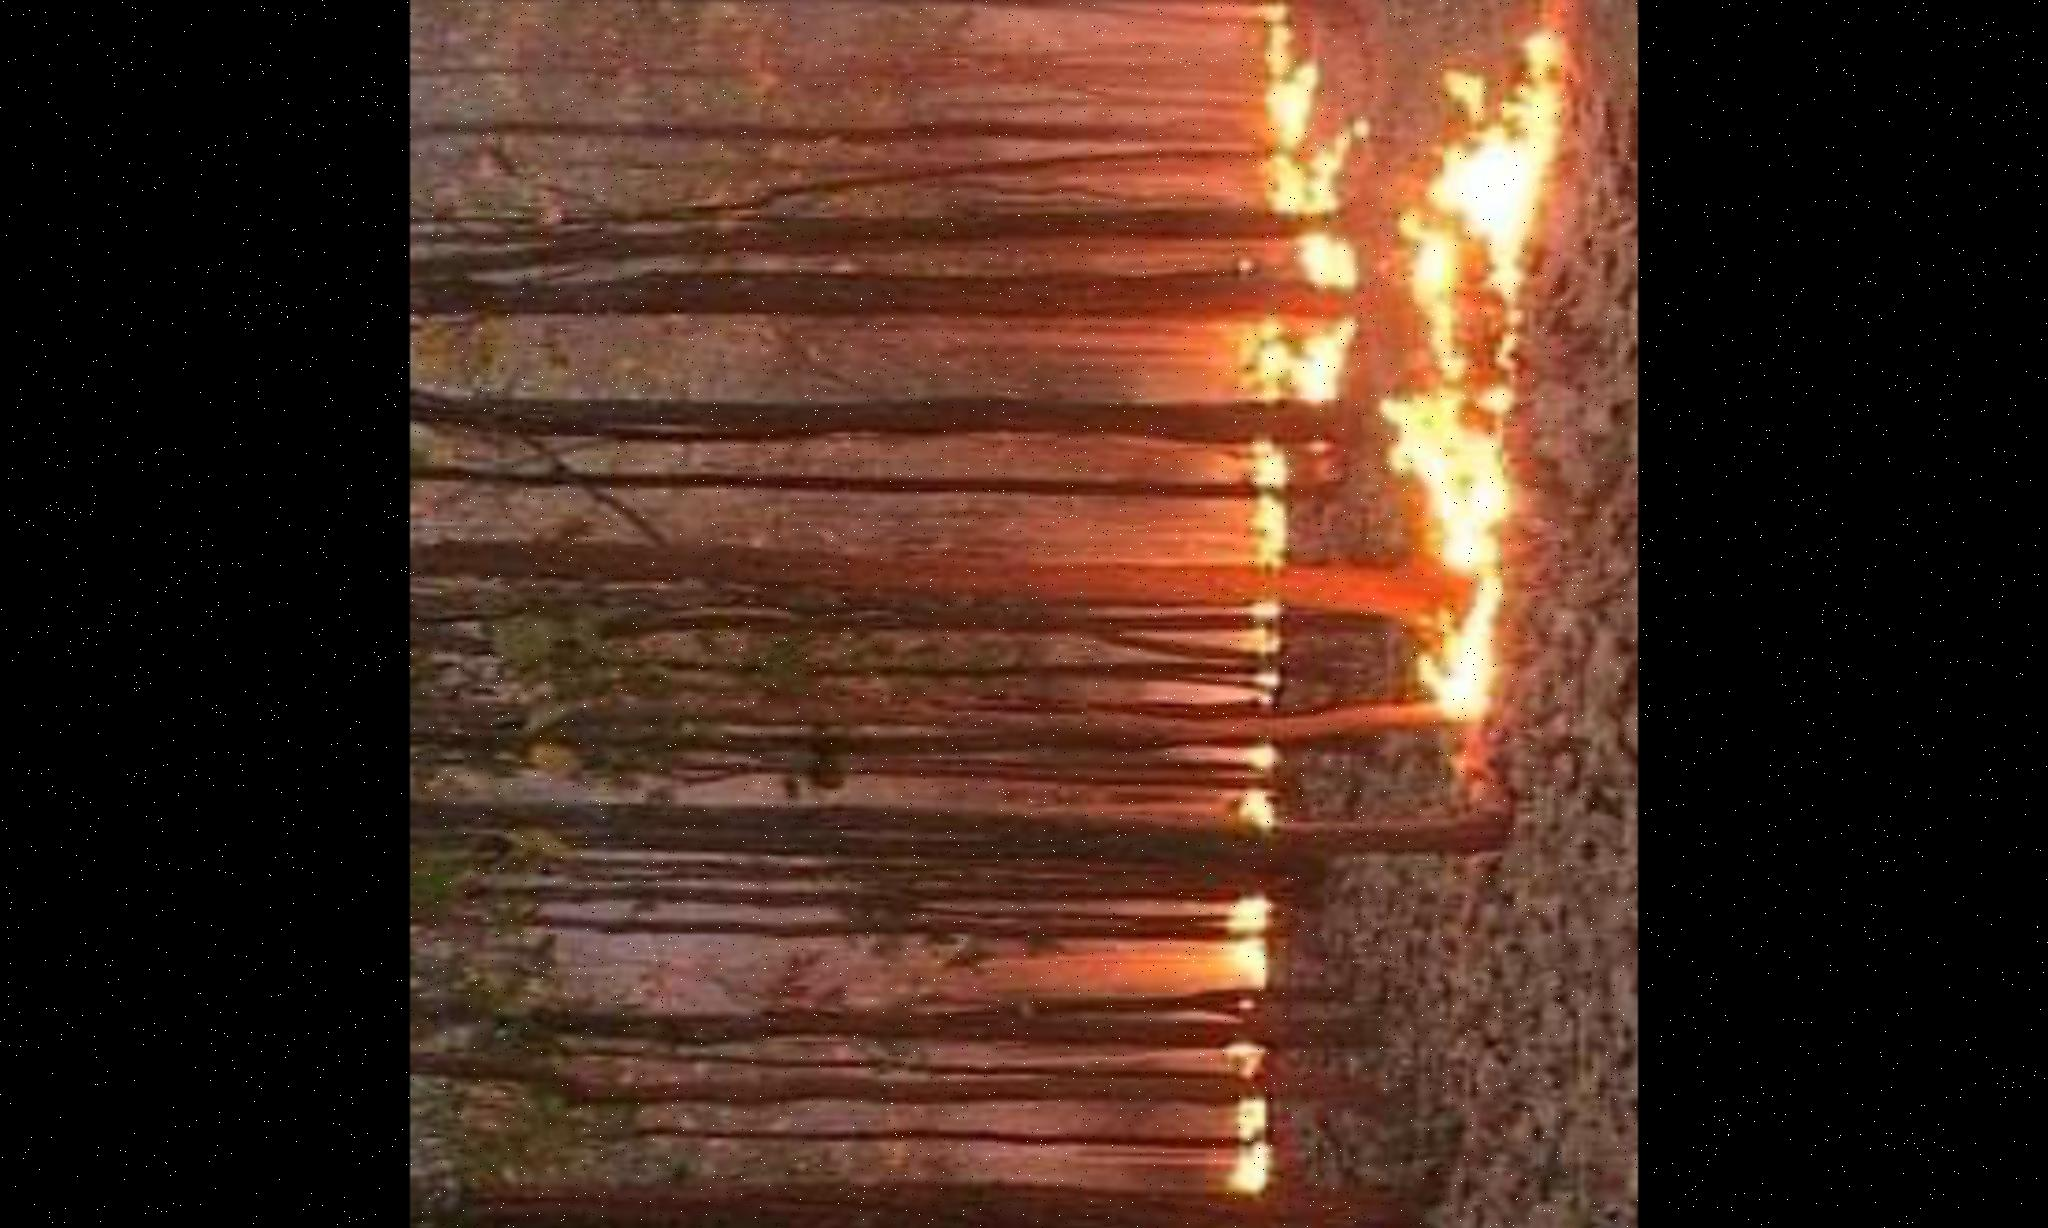fire: (1377, 32, 1586, 725), (1237, 0, 1371, 811), (1221, 880, 1295, 1190)
